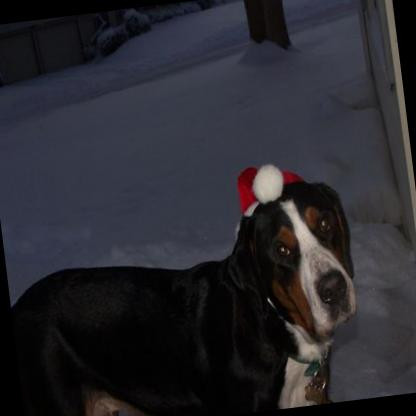Greater_Swiss_Mountain_dog: (0, 172, 370, 416)
